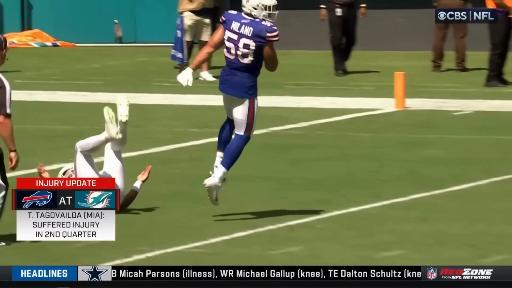Helmet: (242, 0, 278, 21), (58, 166, 74, 177)
Jersey: (219, 11, 279, 98)
Player: (178, 0, 279, 205), (58, 97, 151, 210)
